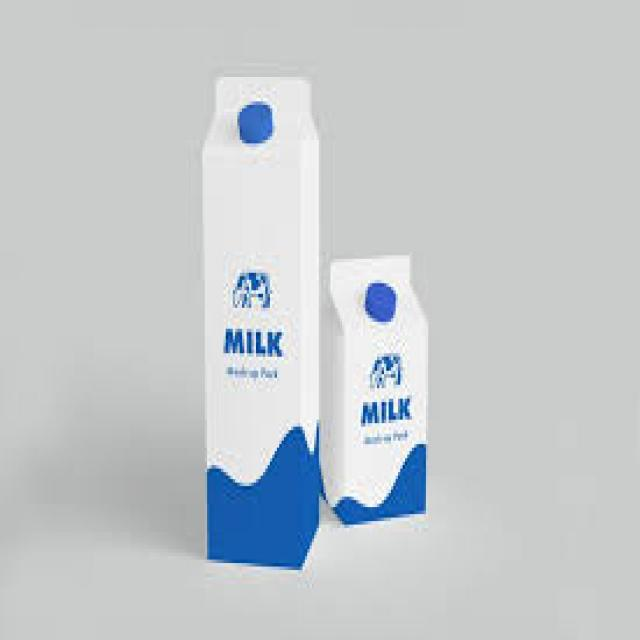non_white_jug: (187, 70, 327, 587), (312, 252, 437, 538)
